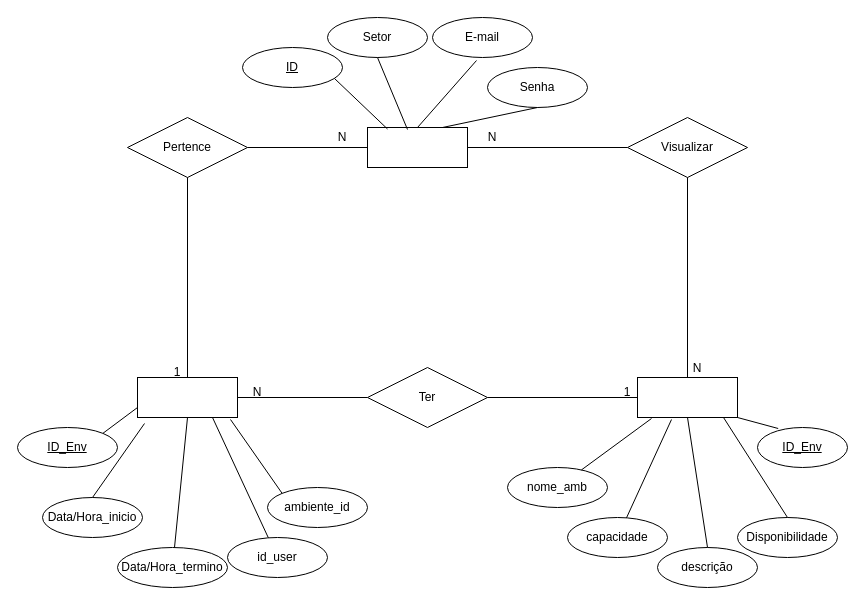
This 865x605 diagram has some shape labels left out. Each missing label, with the centre of its shape:
BD_Ambiente: point 687,397
Reserva: point 187,397
User: point 417,147
